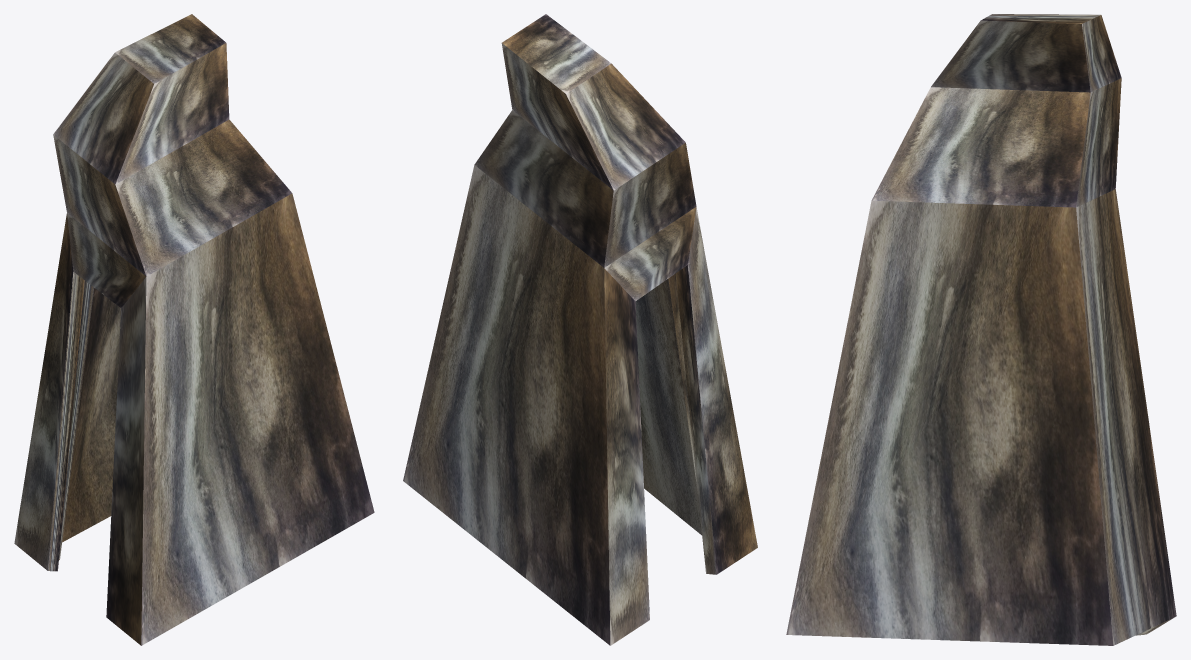
File: casa.fbx
The picture shows the model from 3 angles, left to right: view 1: azimuth 30°, elevation 25°; view 2: azimuth 150°, elevation 25°; view 3: azimuth 270°, elevation 25°; orthographic projection. The views are drawn at different scales.
Parts seen in each view (by area): view 1: casa1.006; view 2: casa1.006; view 3: casa1.006.
Boxes of the visible parts, x1,y1,x2,y2 form: casa1.006: (14,14,374,645); casa1.006: (403,14,757,645); casa1.006: (786,14,1176,645).
Size of the model in its own units: 2.73 by 5.94 by 3.04.
